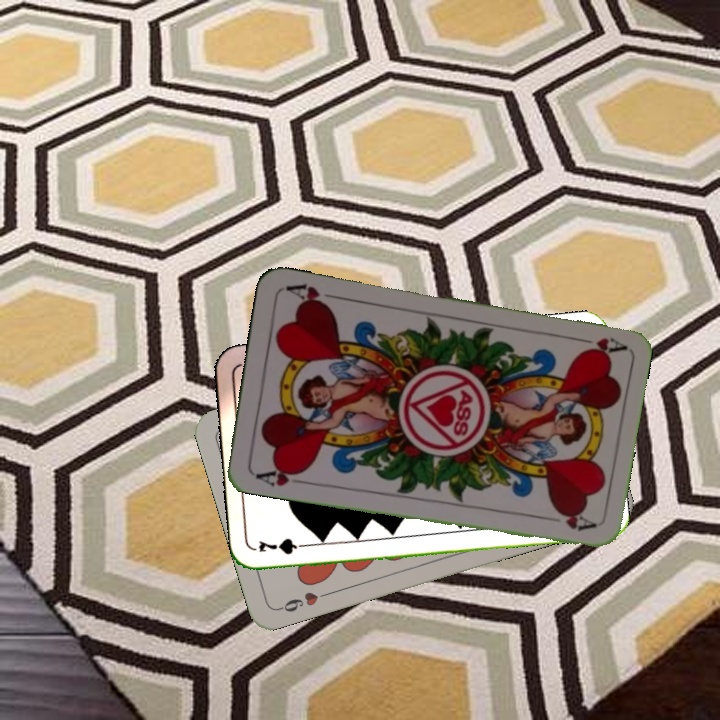G7: (254, 534, 314, 557)
H9: (273, 588, 331, 615)
HA: (251, 462, 309, 489), (567, 332, 626, 358)
